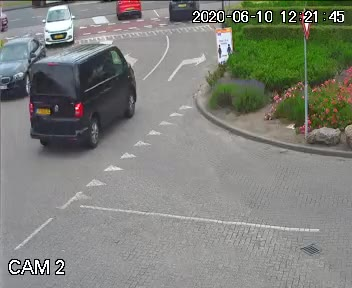car: (30, 45, 144, 146), (0, 31, 40, 102), (41, 5, 75, 42), (112, 0, 154, 22), (169, 0, 205, 25)
